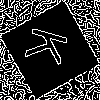K: (25, 25, 78, 70)
